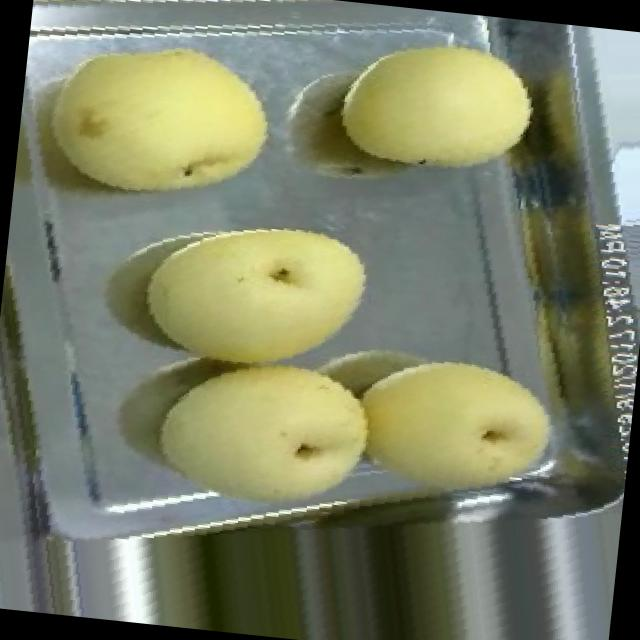Fruit: (121, 310, 406, 556), (111, 188, 396, 410), (18, 11, 296, 235), (322, 322, 581, 538), (312, 3, 563, 210)
